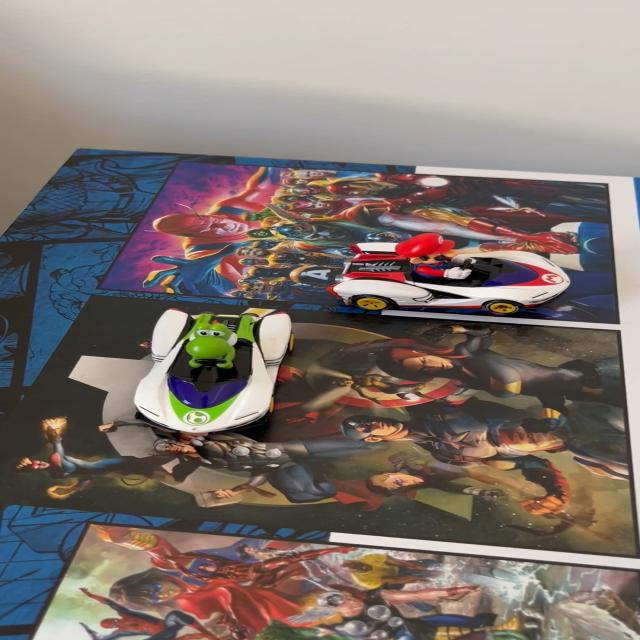mario: (318, 225, 595, 320)
yoshi: (122, 299, 299, 443)
